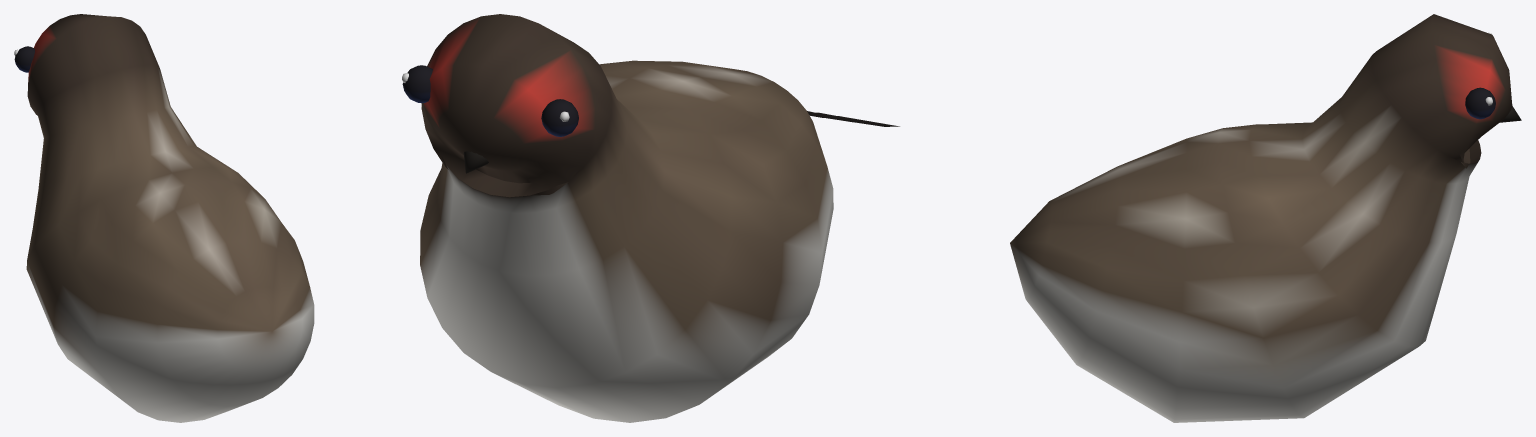
Rendered from Raichou_Body.fbx.
3 views of the same model, side by side, from view 1: azimuth 30°, elevation 25°; view 2: azimuth 150°, elevation 25°; view 3: azimuth 270°, elevation 25° (orthographic). The views are drawn at different scales.
Parts seen in each view (by area): view 1: Raichou_Body; view 2: Raichou_Body; view 3: Raichou_Body.
Part boxes in pixels (left/top/right/bottom): Raichou_Body: left=14, top=14, right=314, bottom=422; Raichou_Body: left=402, top=14, right=899, bottom=422; Raichou_Body: left=1010, top=14, right=1521, bottom=422.
Size of the model in its own units: 5.55 by 7.68 by 10.35.
